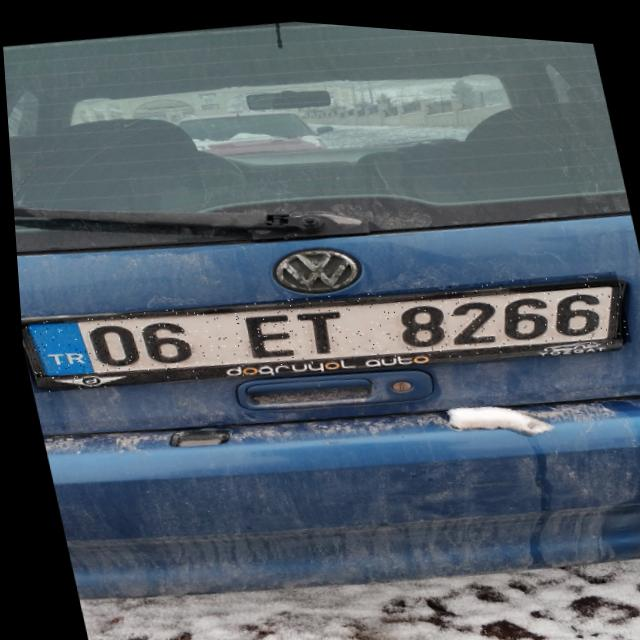license_plate: (12, 227, 633, 429)
